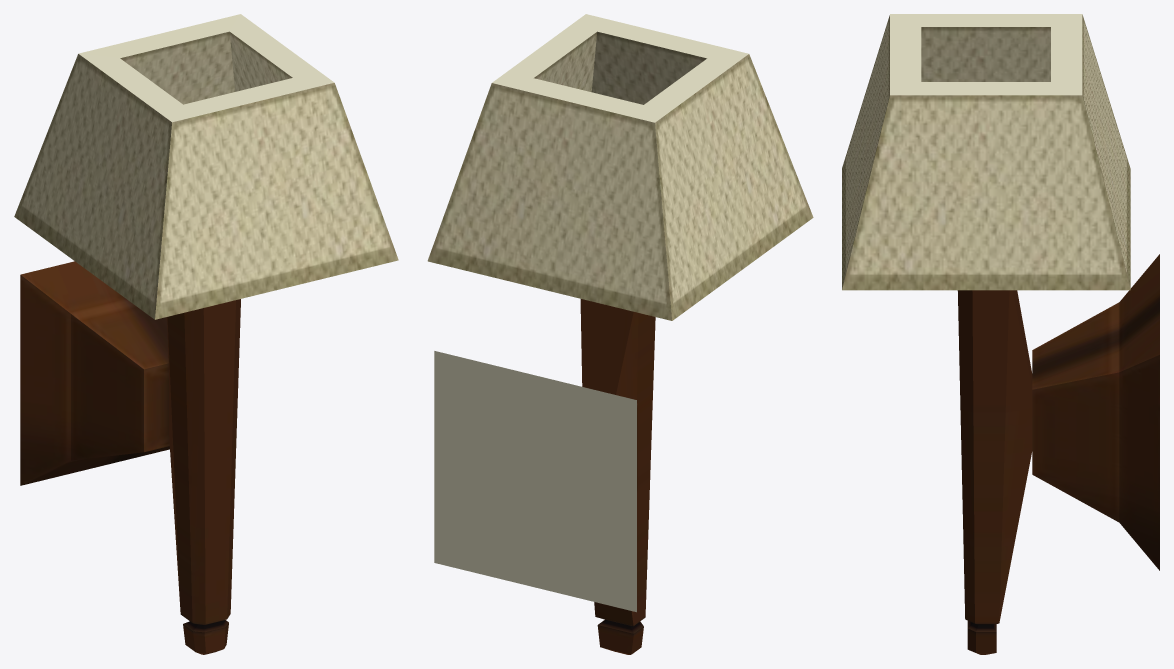
Rendered from wall-lamp-pub.glb.
3 views of the same model, side by side, from view 1: azimuth 30°, elevation 25°; view 2: azimuth 150°, elevation 25°; view 3: azimuth 270°, elevation 25° (orthographic). The views are drawn at different scales.
Visible parts, largest first — view 1: Wall_Lamp; view 2: Wall_Lamp; view 3: Wall_Lamp.
Boxes of the visible parts, bbox=[...] form: Wall_Lamp: bbox=[14, 14, 398, 654]; Wall_Lamp: bbox=[427, 14, 813, 654]; Wall_Lamp: bbox=[842, 14, 1159, 654].
Size of the model in its own units: 0.1532 by 0.35 by 0.1689.
Materials: 1 (1 with a texture image).
